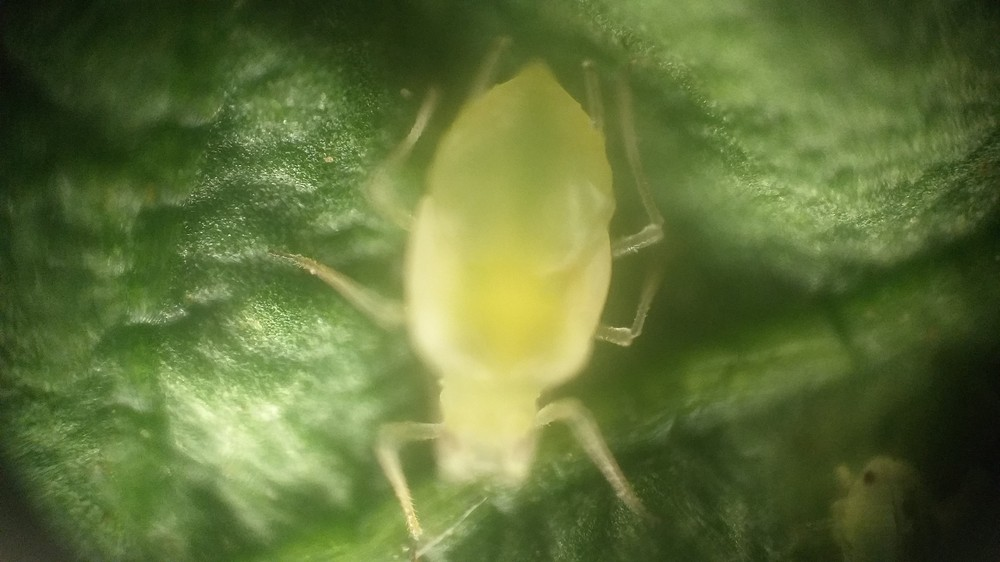Pulgon: (283, 38, 698, 545)
